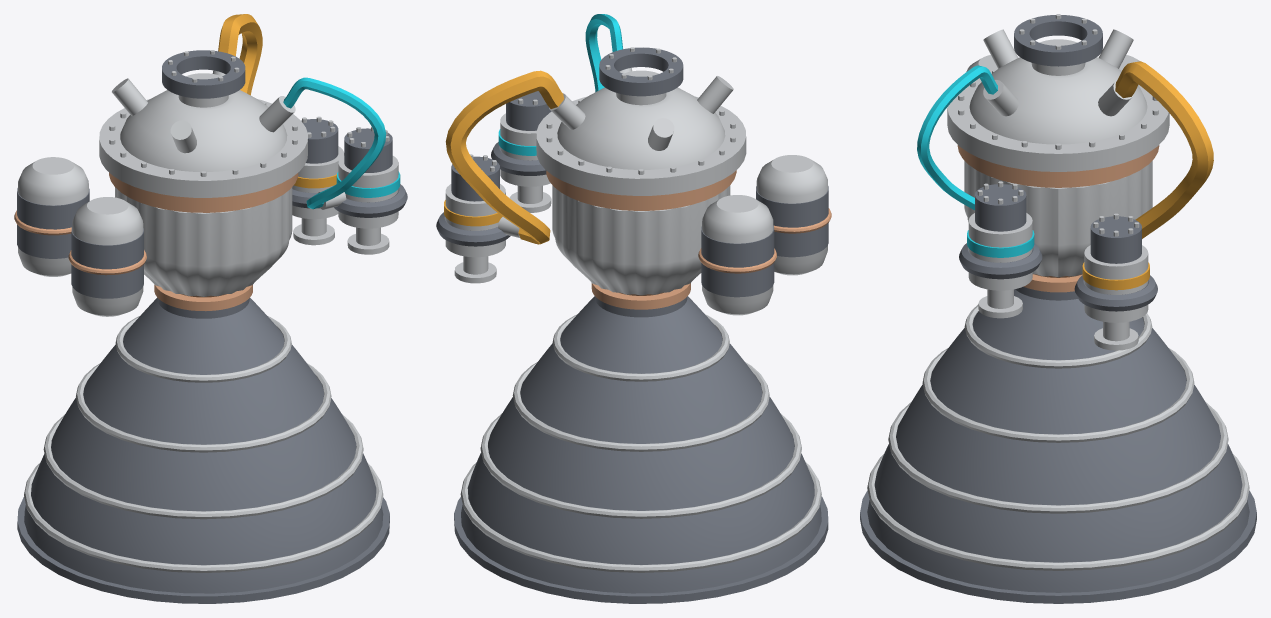
Rendered from engine_hydrolox_staged.glb.
3 views of the same model, side by side, from view 1: azimuth 30°, elevation 25°; view 2: azimuth 150°, elevation 25°; view 3: azimuth 270°, elevation 25° (orthographic). The views are drawn at different scales.
Visible parts, largest first — view 1: nozzle, injector, preburner-pair, cooling-jacket-b, hp-ox-turbopump, feed-lines, hp-fuel-turbopump, chamber, gimbal-bearing; view 2: nozzle, injector, preburner-pair, cooling-jacket-a, feed-lines, hp-fuel-turbopump, hp-ox-turbopump, chamber, gimbal-bearing; view 3: nozzle, injector, hp-ox-turbopump, hp-fuel-turbopump, feed-lines, cooling-jacket-a, chamber, gimbal-bearing, cooling-jacket-b.
Part boxes in pixels (x1=…): nozzle: x1=17, y1=297, x2=389, y2=603; injector: x1=99, y1=70, x2=307, y2=197; preburner-pair: x1=14, y1=157, x2=146, y2=316; cooling-jacket-b: x1=127, y1=187, x2=292, y2=296; hp-ox-turbopump: x1=318, y1=126, x2=407, y2=254; feed-lines: x1=218, y1=14, x2=386, y2=209; hp-fuel-turbopump: x1=292, y1=116, x2=344, y2=245; chamber: x1=109, y1=172, x2=298, y2=311; gimbal-bearing: x1=162, y1=50, x2=245, y2=98; nozzle: x1=454, y1=296, x2=828, y2=603; injector: x1=536, y1=68, x2=746, y2=195; preburner-pair: x1=698, y1=155, x2=831, y2=315; cooling-jacket-a: x1=552, y1=185, x2=718, y2=295; feed-lines: x1=445, y1=14, x2=622, y2=244; hp-fuel-turbopump: x1=436, y1=154, x2=519, y2=283; hp-ox-turbopump: x1=491, y1=91, x2=551, y2=212; chamber: x1=546, y1=170, x2=736, y2=309; gimbal-bearing: x1=599, y1=47, x2=683, y2=96; nozzle: x1=860, y1=286, x2=1256, y2=603; injector: x1=947, y1=29, x2=1169, y2=171; hp-ox-turbopump: x1=959, y1=181, x2=1042, y2=318; hp-fuel-turbopump: x1=1074, y1=213, x2=1157, y2=350; feed-lines: x1=917, y1=61, x2=1213, y2=238; cooling-jacket-a: x1=1058, y1=161, x2=1152, y2=277; chamber: x1=957, y1=145, x2=1159, y2=292; gimbal-bearing: x1=1014, y1=14, x2=1102, y2=66; cooling-jacket-b: x1=964, y1=161, x2=1058, y2=277.
Size of the model in its own units: 0.92 by 1.22 by 0.892.
